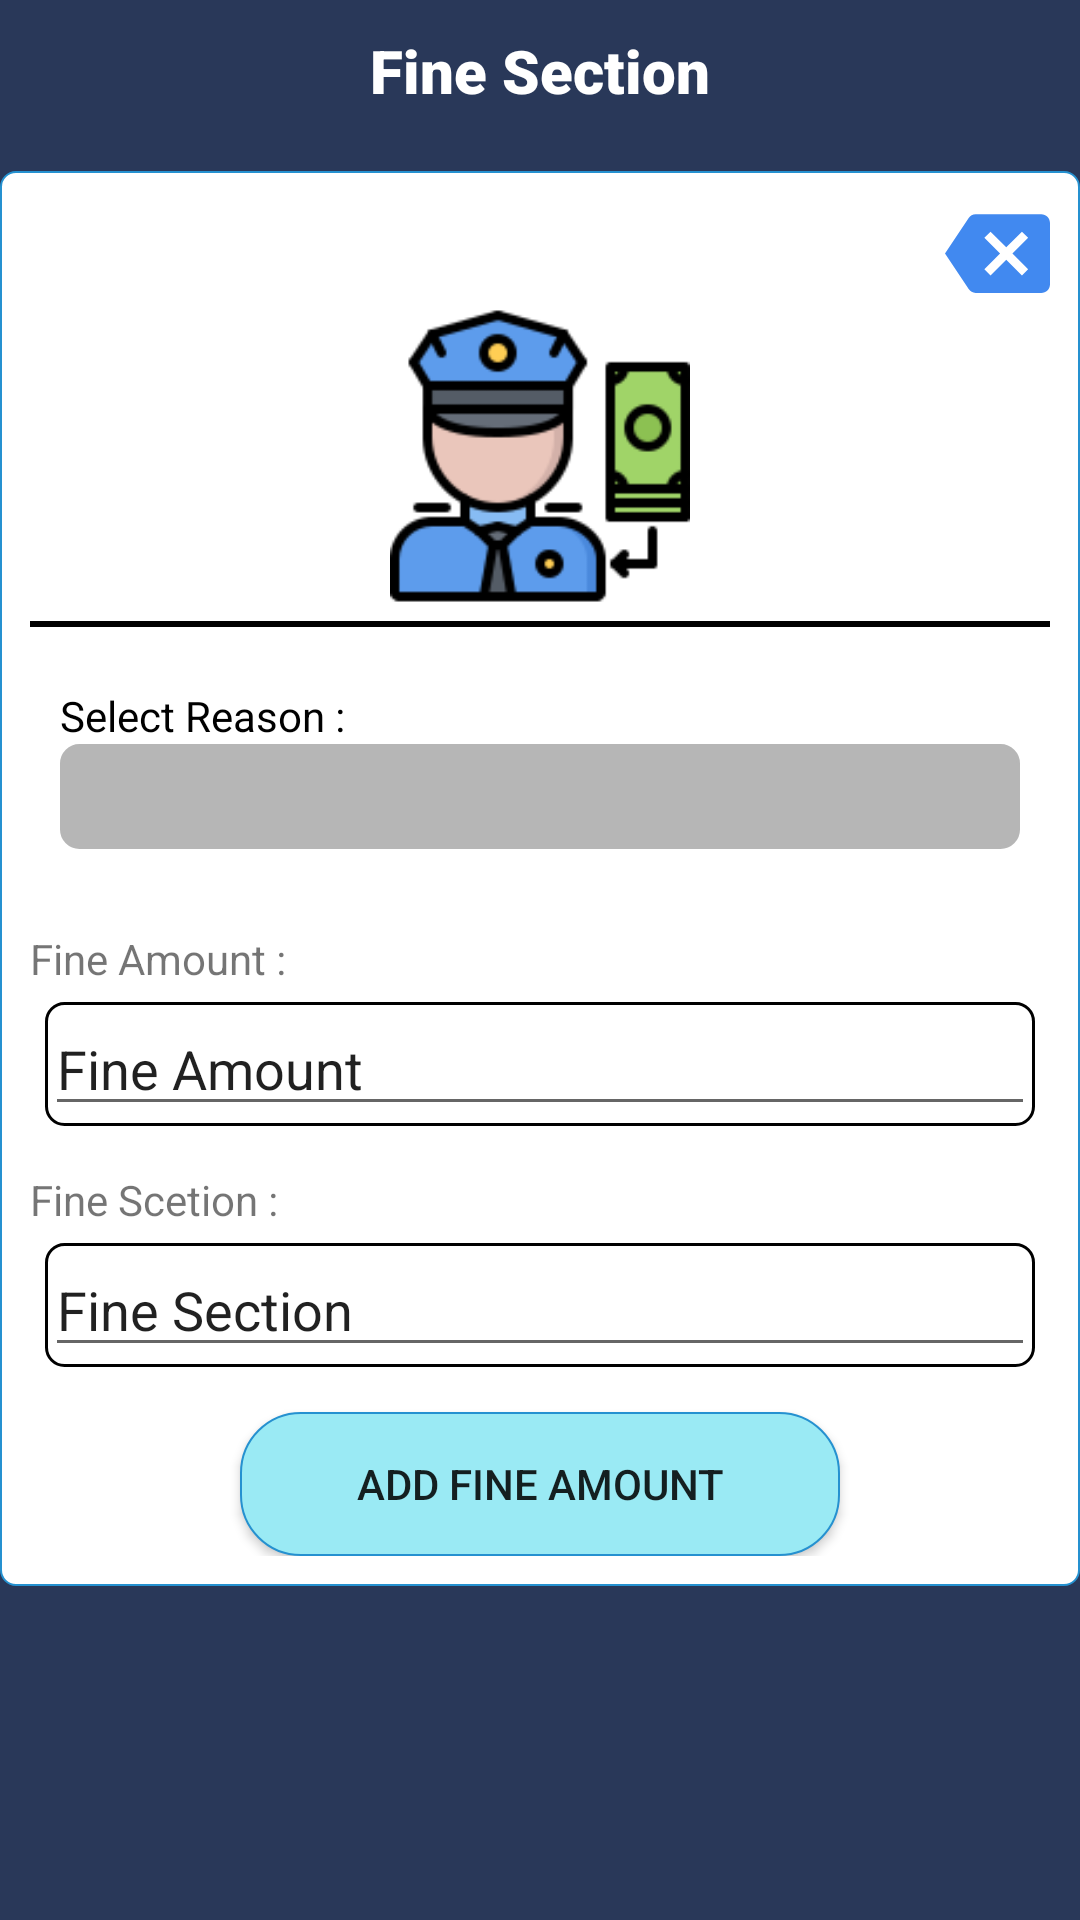

Point at icon controls on the screen. Image size 1080 x 1920, points as [x,y].
bribe: [540,456]
exit: [997,253]
